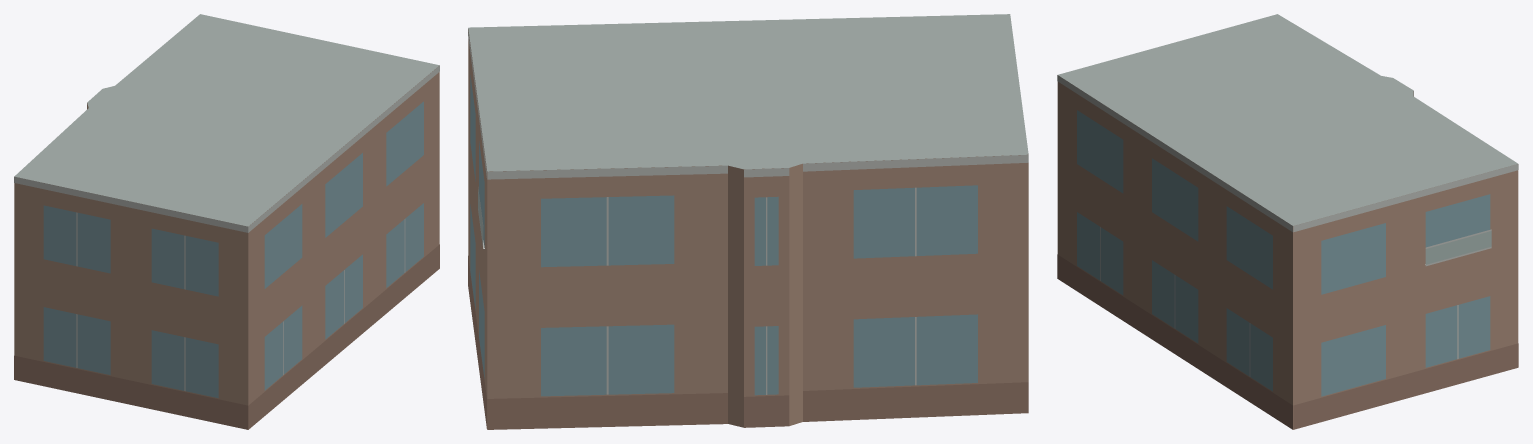
Rendered from survey-upis-32625079.glb.
The picture shows the model from 3 angles, left to right: view 1: azimuth 30°, elevation 25°; view 2: azimuth 150°, elevation 25°; view 3: azimuth 270°, elevation 25°; orthographic projection. The views are drawn at different scales.
Visible parts, largest first — view 1: survey-upis-32625079.tmp; view 2: survey-upis-32625079.tmp; view 3: survey-upis-32625079.tmp.
Part boxes in pixels (x1=…): survey-upis-32625079.tmp: x1=14, y1=14, x2=439, y2=429; survey-upis-32625079.tmp: x1=468, y1=14, x2=1028, y2=429; survey-upis-32625079.tmp: x1=1057, y1=14, x2=1518, y2=429.
Size of the model in its own units: 17.41 by 7.8 by 15.99.
